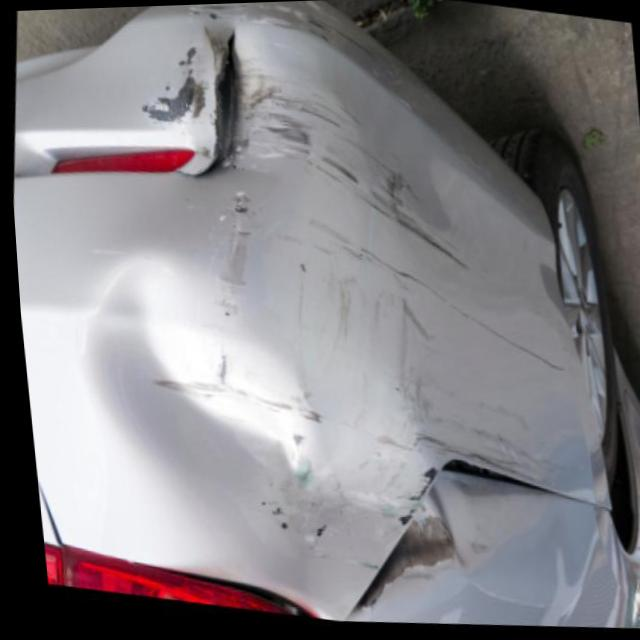Dent: (41, 232, 337, 533)
